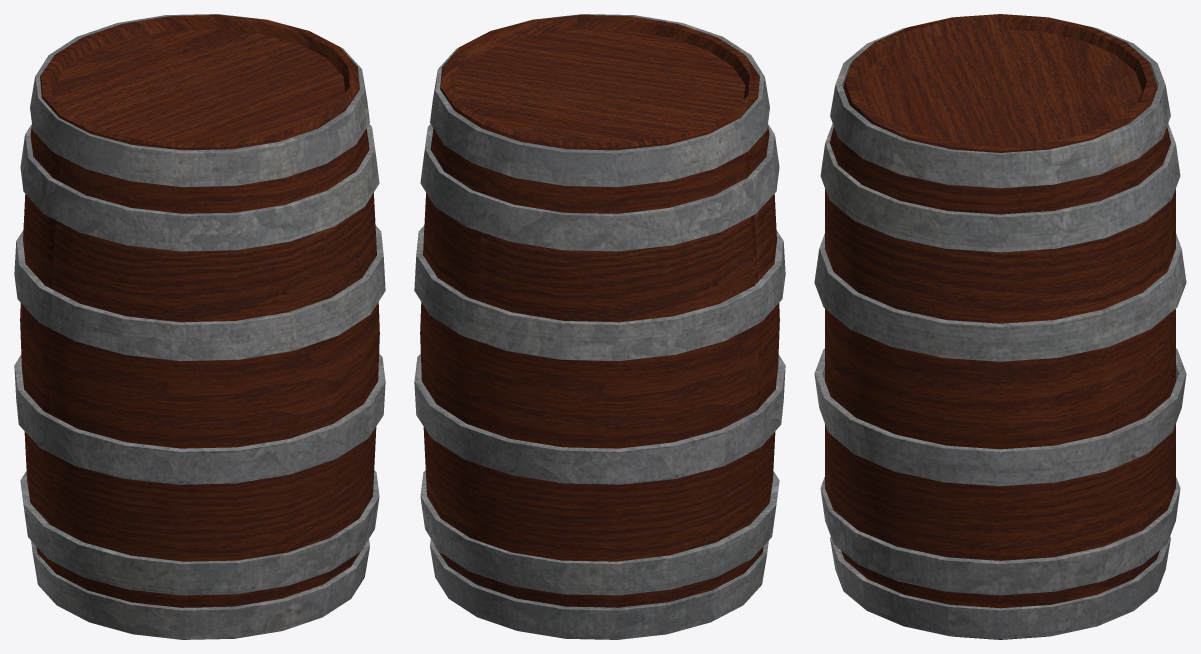
File: barrel.fbx
The picture shows the model from 3 angles, left to right: view 1: azimuth 30°, elevation 25°; view 2: azimuth 150°, elevation 25°; view 3: azimuth 270°, elevation 25°; orthographic projection.
Visible parts, largest first — view 1: barrel, ring3, ring2, ring4, ring1, ring5, ring6; view 2: barrel, ring3, ring2, ring4, ring1, ring5, ring6; view 3: barrel, ring3, ring2, ring4, ring1, ring5, ring6.
Boxes of the visible parts, x1,y1,x2,y2 form: barrel: (20,14,379,607); ring3: (14,225,385,361); ring2: (20,124,379,251); ring4: (14,353,385,484); ring1: (30,14,369,187); ring5: (20,470,379,595); ring6: (31,539,369,639); barrel: (420,14,779,607); ring3: (414,225,785,361); ring2: (420,124,779,251); ring4: (414,353,785,484); ring1: (430,14,769,187); ring5: (420,470,779,595); ring6: (430,539,768,639); barrel: (825,14,1175,639); ring3: (814,233,1186,361); ring2: (820,123,1180,252); ring4: (814,348,1186,486); ring1: (830,27,1170,188); ring5: (820,477,1180,595); ring6: (830,536,1170,639).
Size of the model in its own units: 12.66 by 18.4 by 12.66.
